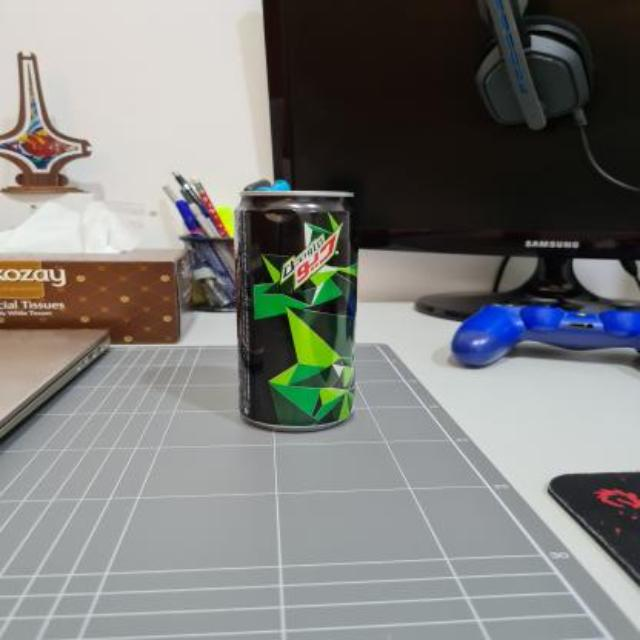metal: (235, 186, 357, 431)
